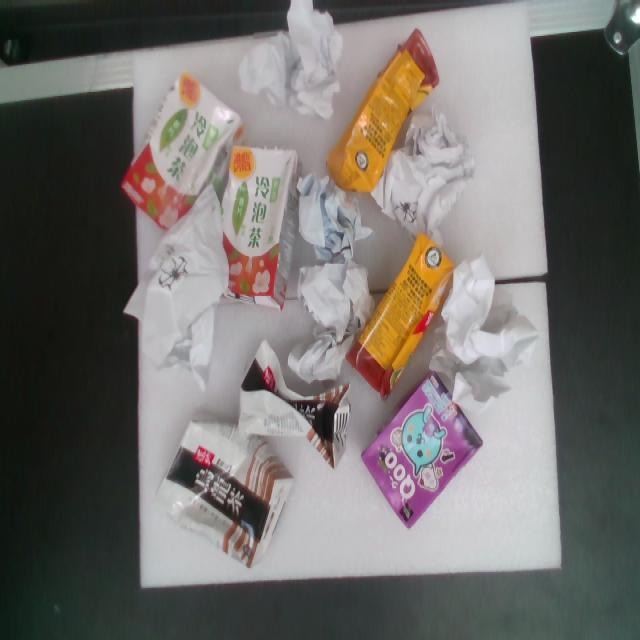juicebox: (124, 399, 320, 587), (333, 355, 517, 548), (97, 61, 262, 254), (315, 18, 478, 204), (335, 230, 481, 410), (202, 331, 374, 480), (187, 130, 306, 312)
paper: (91, 156, 312, 395), (364, 233, 569, 439), (350, 96, 498, 254), (261, 230, 389, 404), (206, 0, 356, 131), (283, 156, 386, 268)
